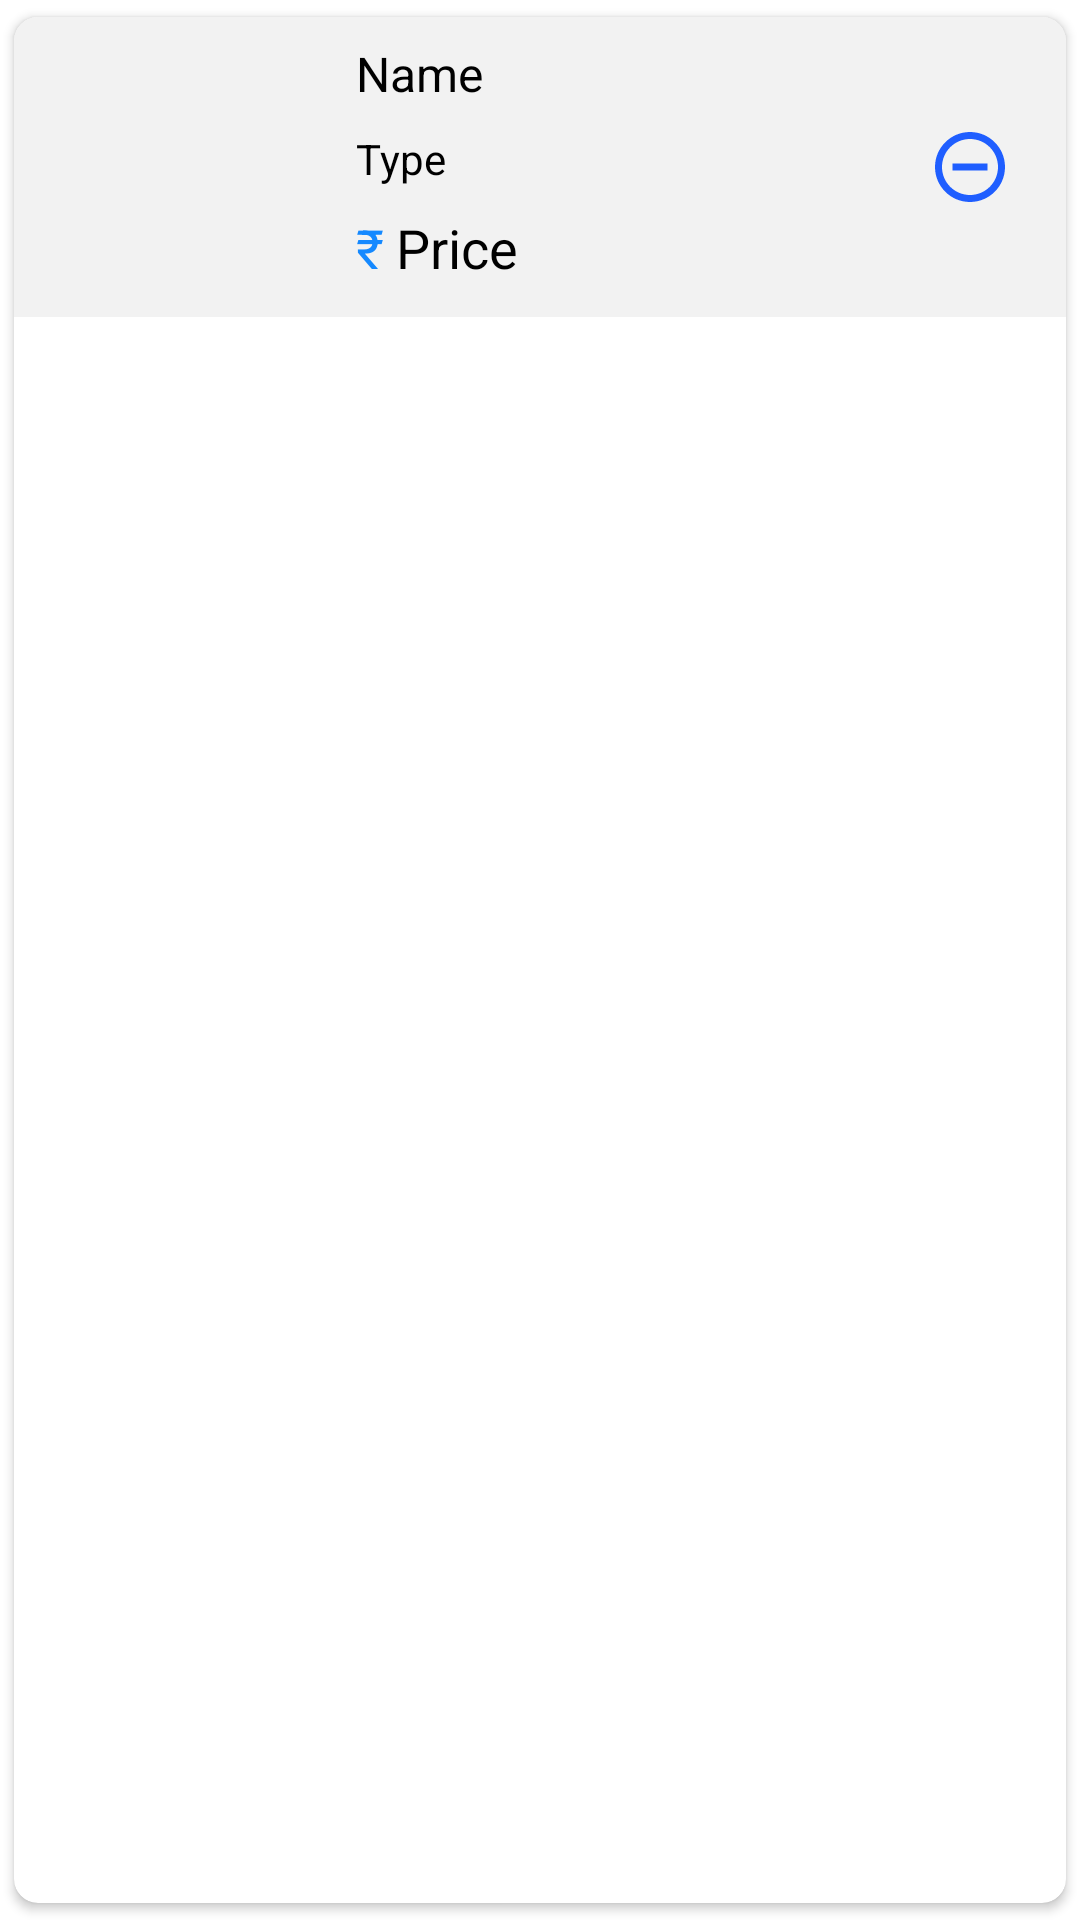

Icons on this 1080w x 1920h Android screen, each with the point to tap as (x,y):
remove circle: (970,167)
